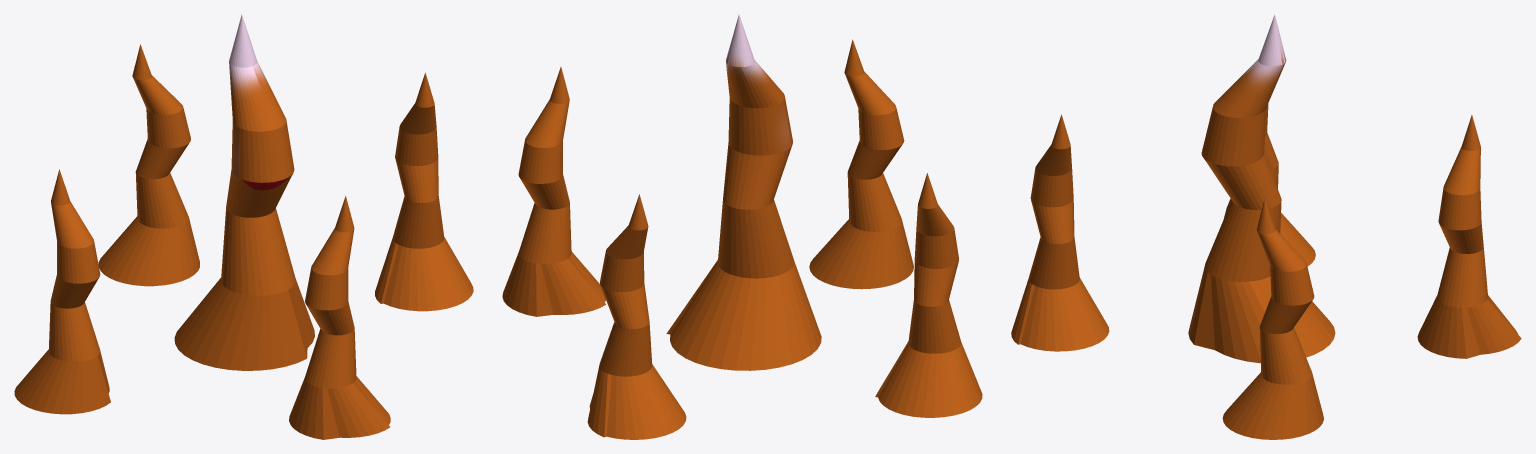
Rendered from SpikesThorns.fbx.
3 views of the same model, side by side, from view 1: azimuth 30°, elevation 25°; view 2: azimuth 150°, elevation 25°; view 3: azimuth 270°, elevation 25° (orthographic). The views are drawn at different scales.
Visible parts, largest first — view 1: Cube; view 2: Cube; view 3: Cube.
Part boxes in pixels (left/top/right/bottom): Cube: left=14, top=14, right=473, bottom=439; Cube: left=502, top=14, right=982, bottom=439; Cube: left=1011, top=14, right=1521, bottom=439.
Bounding box in the file's own units: 702 × 493 × 694.
Materials: 2 (2 with a texture image).
